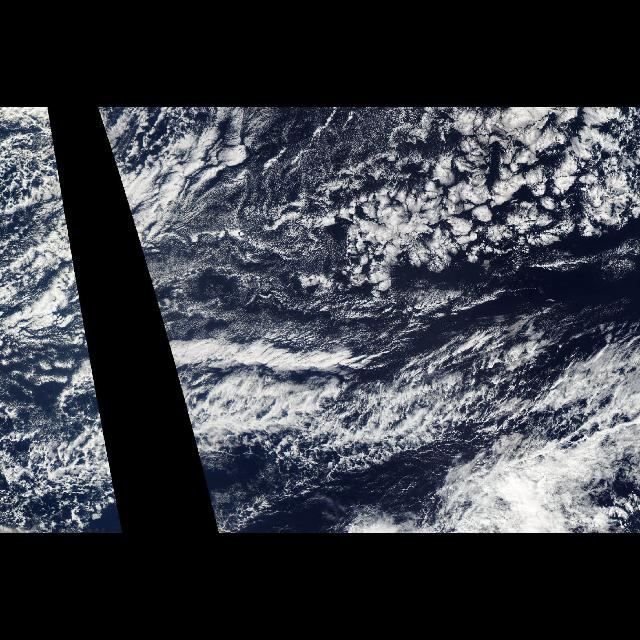Fish: (354, 322, 602, 486)
Flower: (364, 112, 630, 238)
Sugar: (150, 194, 330, 346)
